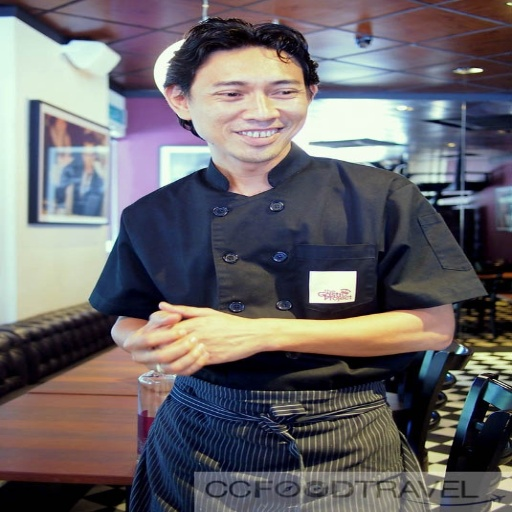hand: (119, 307, 210, 378)
